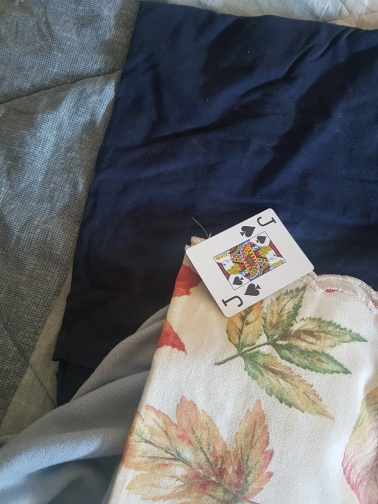jack: (184, 207, 314, 317)
